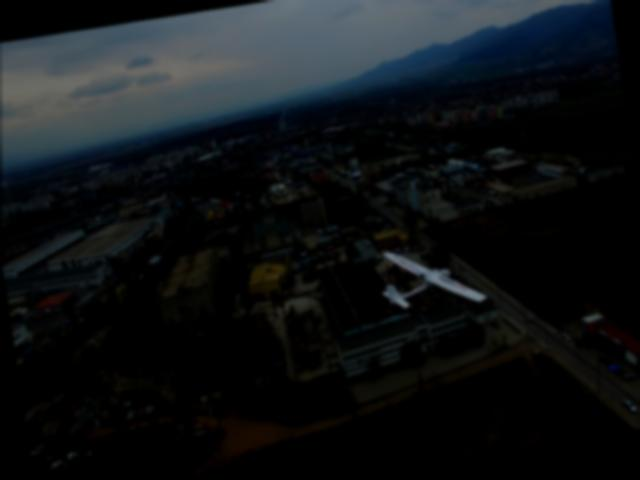plane: (376, 238, 488, 319)
